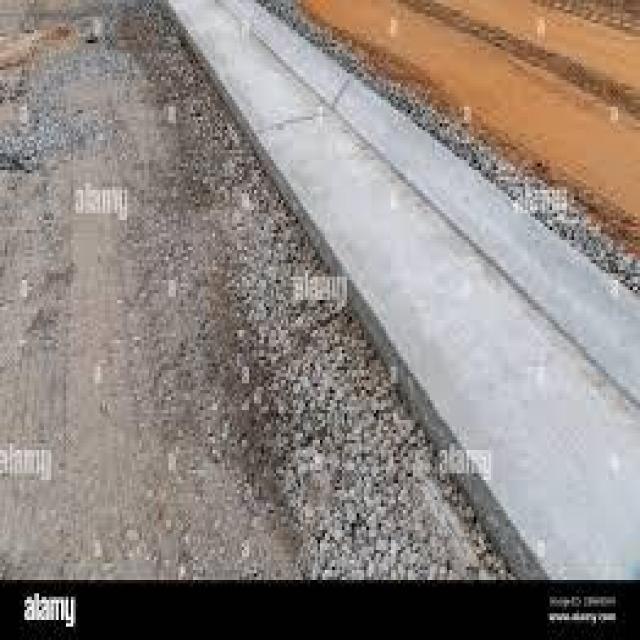curb: (296, 77, 504, 438), (176, 4, 318, 171)
